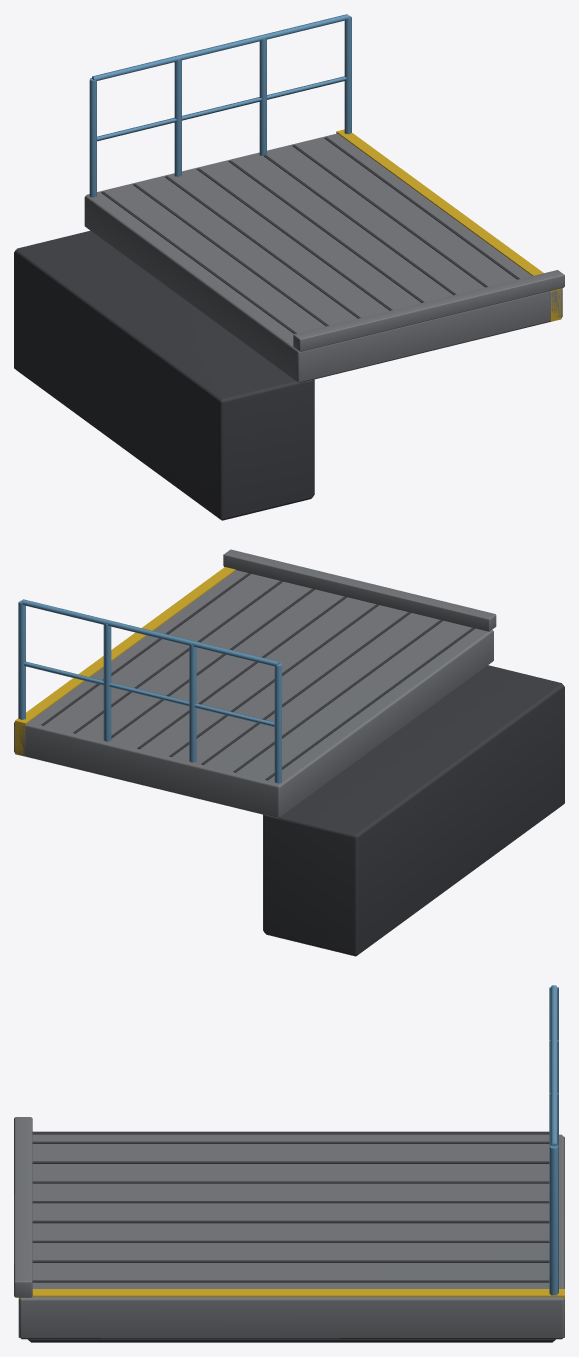
The model's file is DrawLeafFL.fbx.
3 views of the same model, one above another, from view 1: azimuth 30°, elevation 25°; view 2: azimuth 150°, elevation 25°; view 3: azimuth 270°, elevation 25° (orthographic). The views are drawn at different scales.
Visible parts, largest first — view 1: DrawLeafFL; view 2: DrawLeafFL; view 3: DrawLeafFL.
Part boxes in pixels (box(x1,y1,x2,y2)): DrawLeafFL: box(14, 14, 564, 520); DrawLeafFL: box(14, 549, 564, 956); DrawLeafFL: box(14, 985, 564, 1342).
Size of the model in its own units: 3.2 by 2.47 by 3.53.
